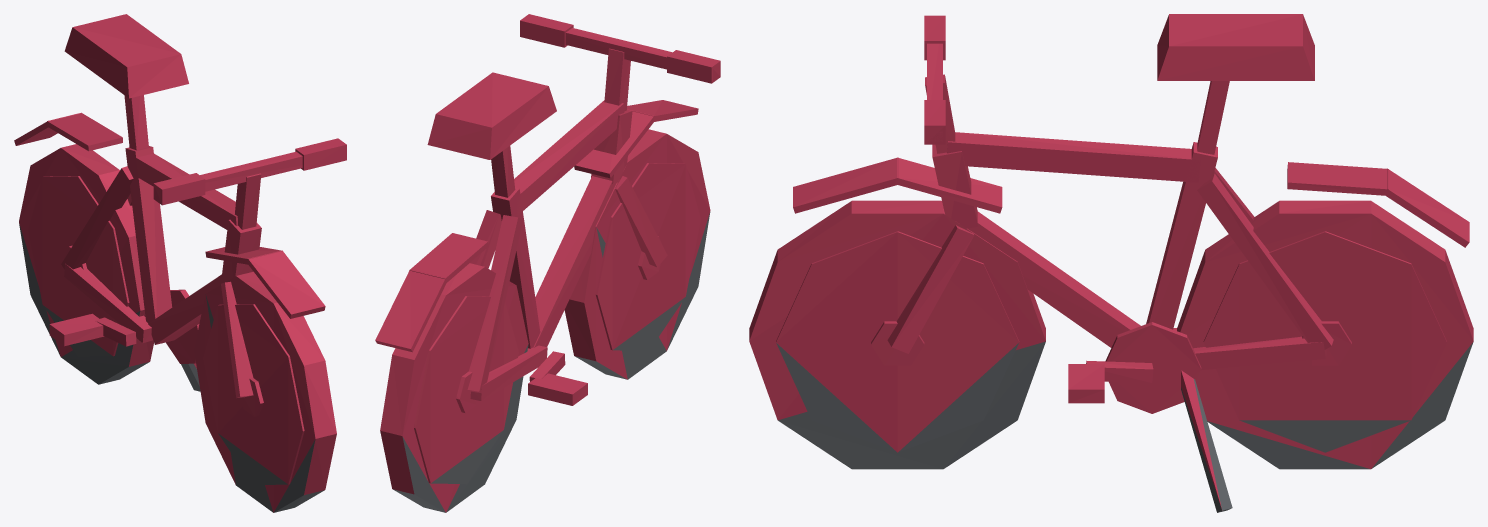
The model's file is bicycle-00.glb.
3 views of the same model, side by side, from view 1: azimuth 30°, elevation 25°; view 2: azimuth 150°, elevation 25°; view 3: azimuth 270°, elevation 25° (orthographic). The views are drawn at different scales.
Visible parts, largest first — view 1: bicycle_00; view 2: bicycle_00; view 3: bicycle_00.
Part boxes in pixels (bbox=[...]): bicycle_00: bbox=[14, 14, 346, 512]; bicycle_00: bbox=[375, 14, 720, 512]; bicycle_00: bbox=[749, 14, 1473, 512].
Size of the model in its own units: 0.4299 by 0.8061 by 1.2.
